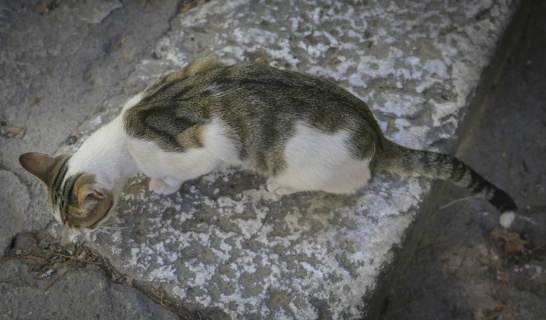Cat: (12, 55, 517, 235)
